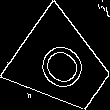O_SE: (30, 33, 94, 98)
